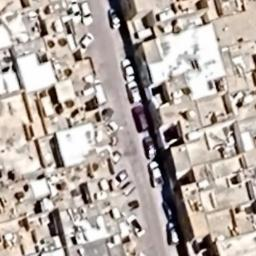SUV: (131, 105, 152, 135), (124, 79, 144, 106), (111, 168, 129, 188), (82, 1, 94, 29)
pickup: (148, 160, 166, 190)
sedan: (125, 212, 146, 238), (140, 134, 160, 160), (120, 57, 138, 83), (76, 31, 96, 54), (106, 8, 125, 28), (70, 0, 82, 24), (108, 148, 124, 164), (105, 120, 119, 136)
van: (91, 76, 109, 106)
